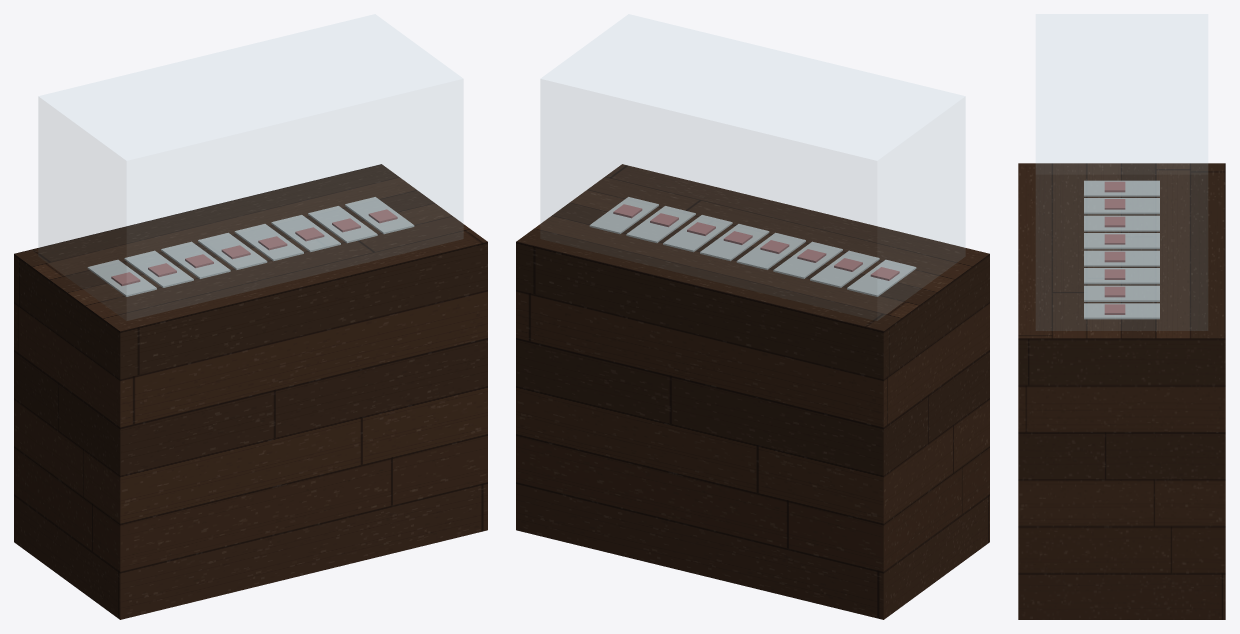
The model's file is display-case.glb.
The picture shows the model from 3 angles, left to right: view 1: azimuth 30°, elevation 25°; view 2: azimuth 150°, elevation 25°; view 3: azimuth 270°, elevation 25°; orthographic projection. The views are drawn at different scales.
Visible parts, largest first — view 1: display-case; view 2: display-case; view 3: display-case.
Boxes of the visible parts, x1,y1,x2,y2 form: display-case: [14, 14, 487, 619]; display-case: [516, 14, 989, 619]; display-case: [1018, 14, 1225, 619].
Bounding box in the file's own units: 1.2 × 1.4 × 0.6.
18 materials, 1 textured.
